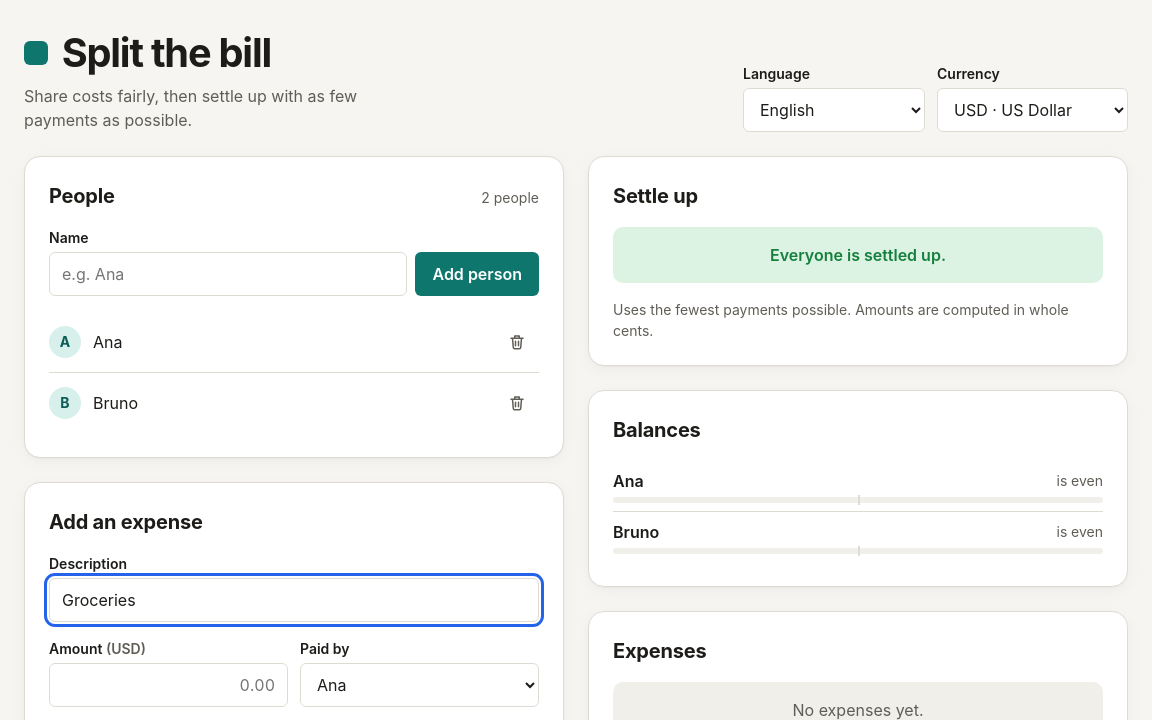
Test case: App › supports custom shares that must add up to the total
This screenshot has width=1152, height=720.
Earlier steps of the test are not shown.
Later steps or results of the test are not shown.
Type "50" into the field labelled "Amount (USD)" at (168, 685), box [49, 663, 288, 707]
(page scrolled)
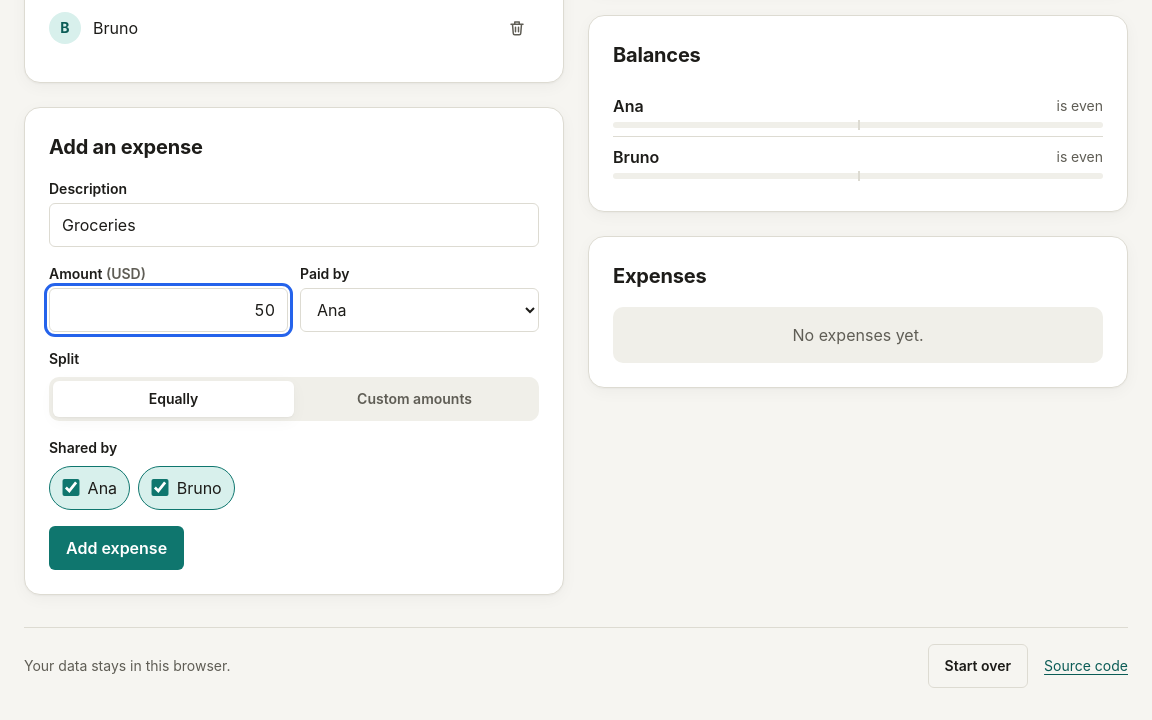
Click the radio button labelled "Custom amounts" at (415, 399), box [357, 390, 472, 407]
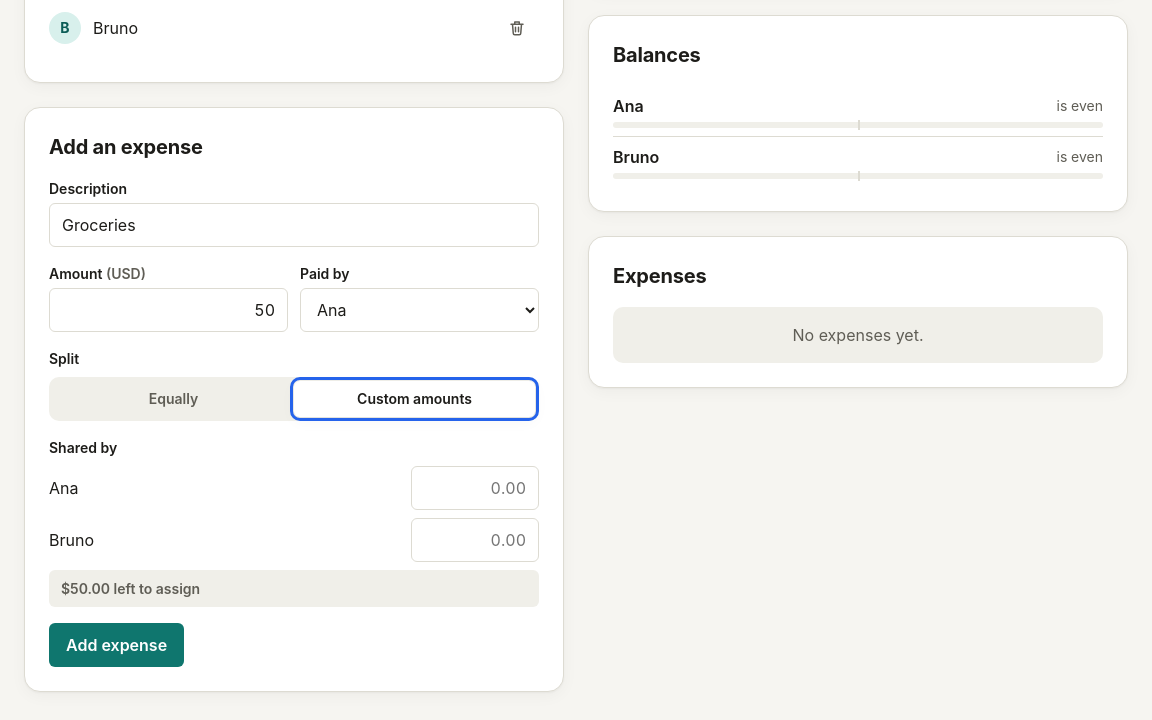
Type "10" into the field named "Share for Ana" at (475, 488), box [411, 466, 539, 510]
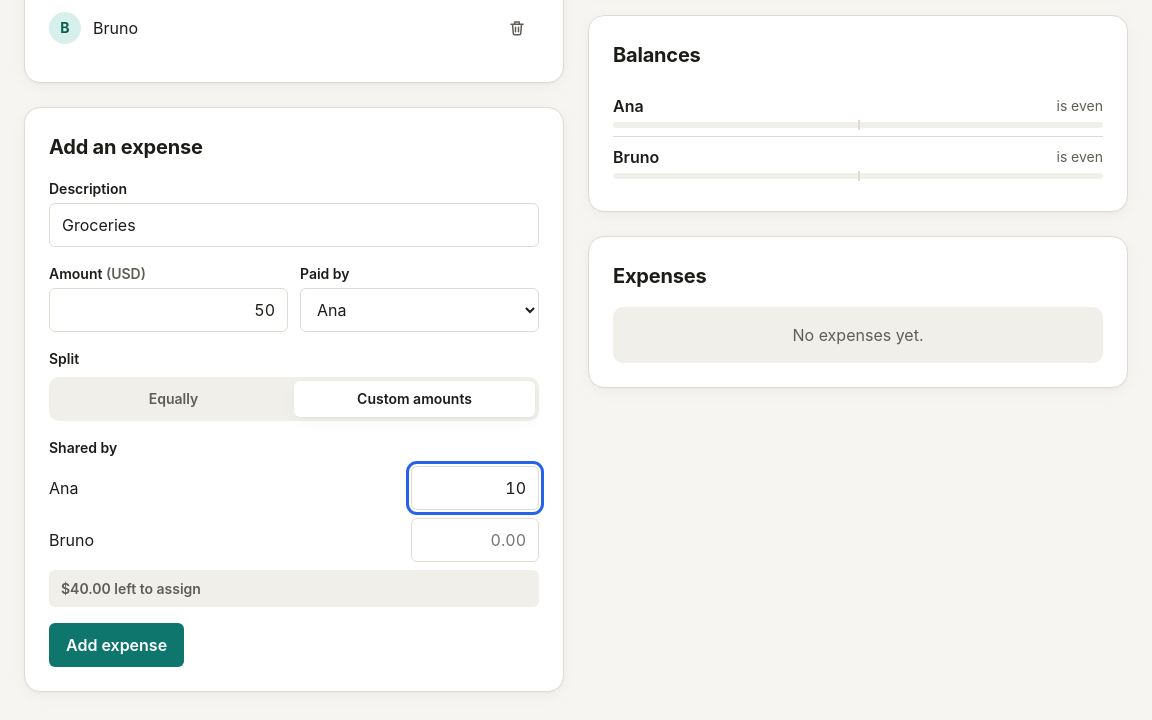
Result: the text "$40.00 left to assign" is shown at [49, 570, 539, 607]
Type "45" into the field named "Share for Bruno" at (475, 540), box [411, 518, 539, 562]
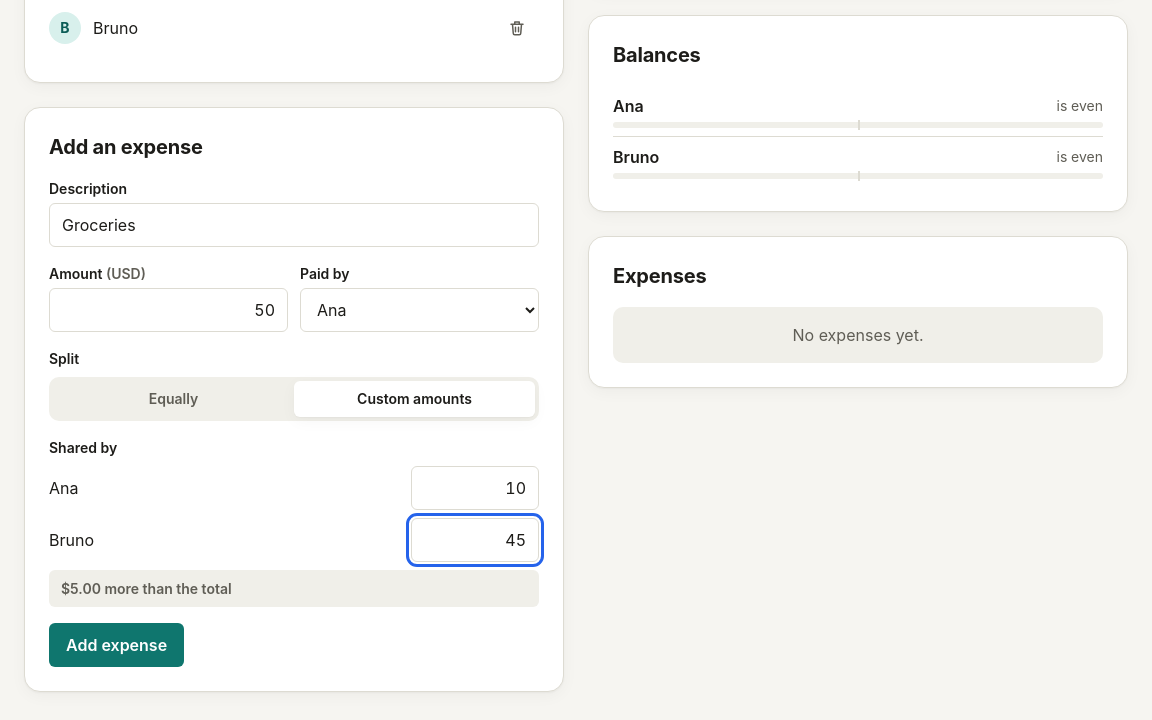
Result: the text "$5.00 more than the total" is shown at [49, 570, 539, 607]
Click the button "Add expense" at (117, 645), box [49, 623, 184, 667]
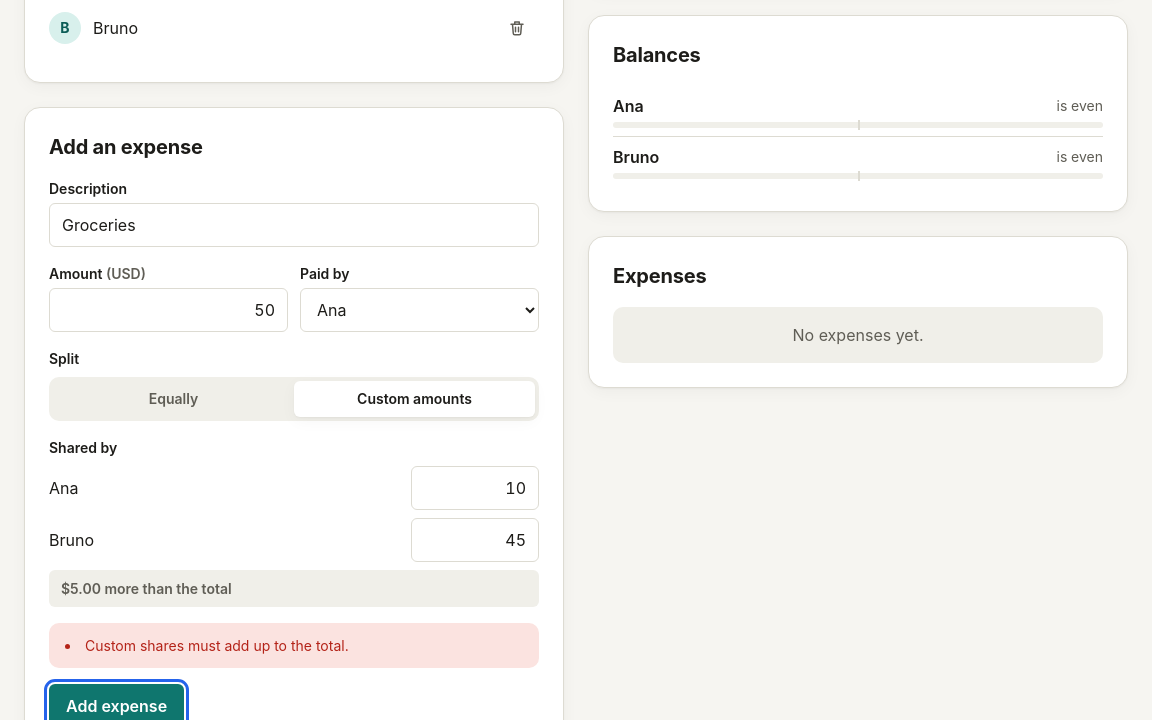
Result: the message reads "Custom shares must add up to the total." at [85, 637, 349, 654]
Replace the text in the field named "Share for Bruno" with "40" at (475, 540), box [411, 518, 539, 562]
(page scrolled)
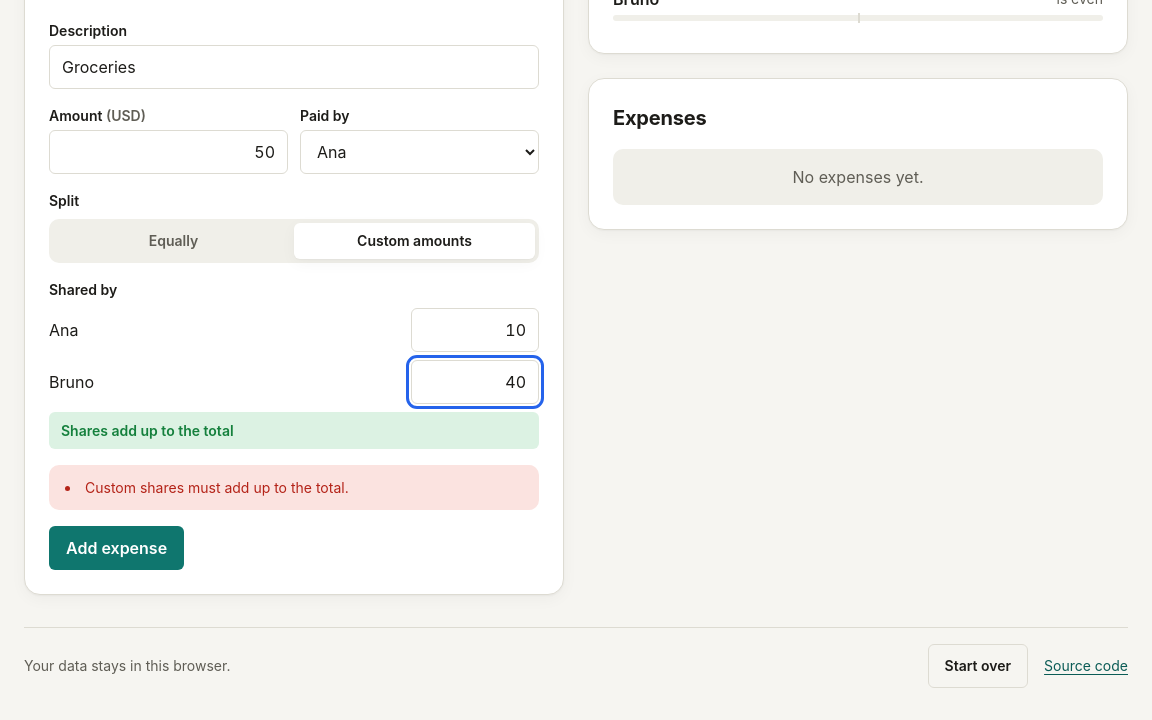
Result: the text "Shares add up to the total" is shown at [49, 412, 539, 449]
